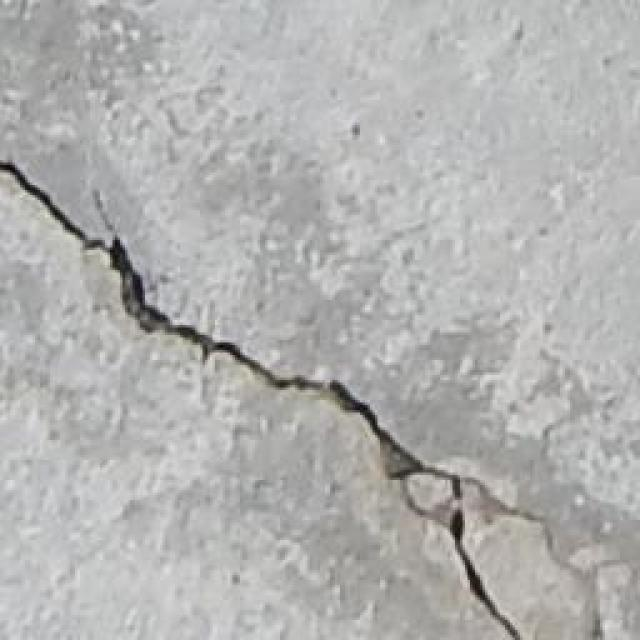concrete-crack: (1, 153, 532, 640)
